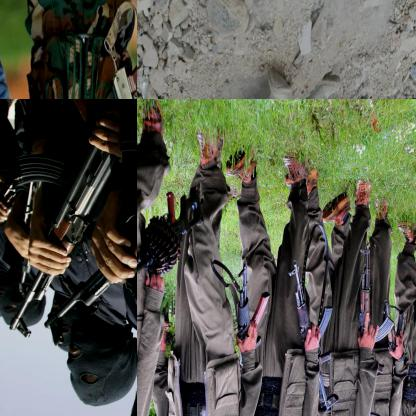rifle: (7, 115, 121, 340), (36, 118, 136, 348), (137, 190, 207, 328), (284, 256, 340, 413), (355, 243, 394, 381), (226, 257, 270, 359), (378, 300, 408, 360)
